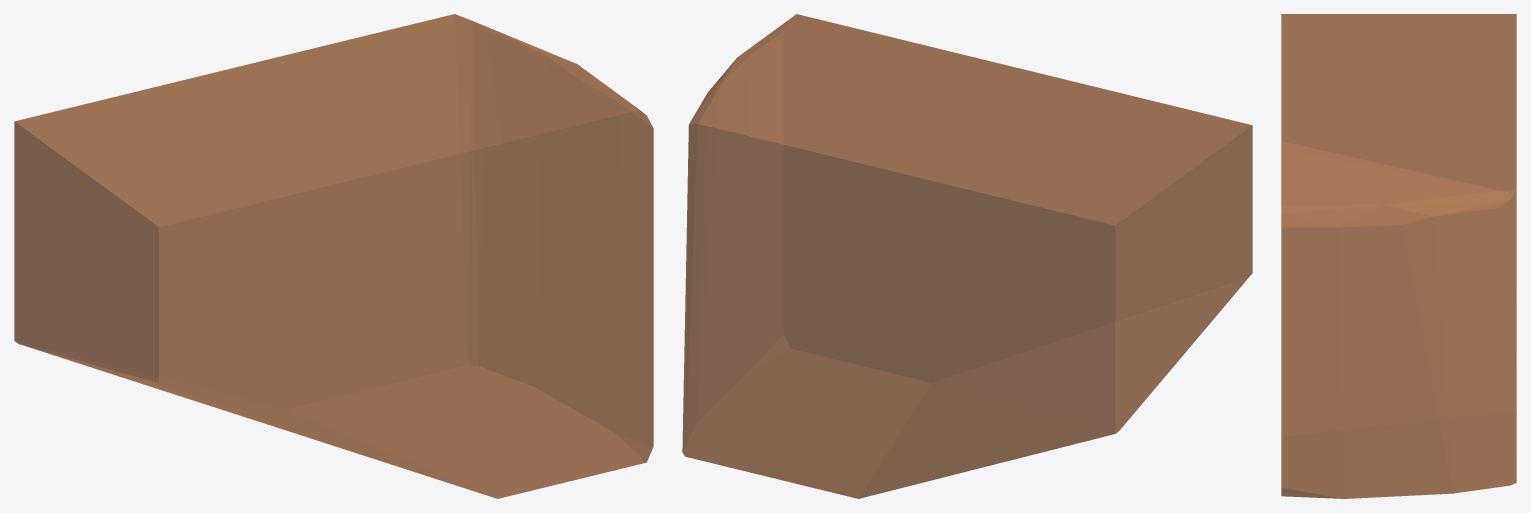
The picture shows the model from 3 angles, left to right: view 1: azimuth 30°, elevation 25°; view 2: azimuth 150°, elevation 25°; view 3: azimuth 270°, elevation 25°; orthographic projection. The views are drawn at different scales.
Visible parts, largest first — view 1: Shape_IndexedFaceSet.005_Shape_IndexedFaceSet.17580; view 2: Shape_IndexedFaceSet.005_Shape_IndexedFaceSet.17580; view 3: Shape_IndexedFaceSet.005_Shape_IndexedFaceSet.17580.
Part boxes in pixels (x1,y1,x2,y2): Shape_IndexedFaceSet.005_Shape_IndexedFaceSet.17580: [14, 14, 653, 498]; Shape_IndexedFaceSet.005_Shape_IndexedFaceSet.17580: [682, 14, 1252, 498]; Shape_IndexedFaceSet.005_Shape_IndexedFaceSet.17580: [1281, 14, 1516, 498].
Bounding box in the file's own units: 0.1286 × 0.0881 × 0.0652.
